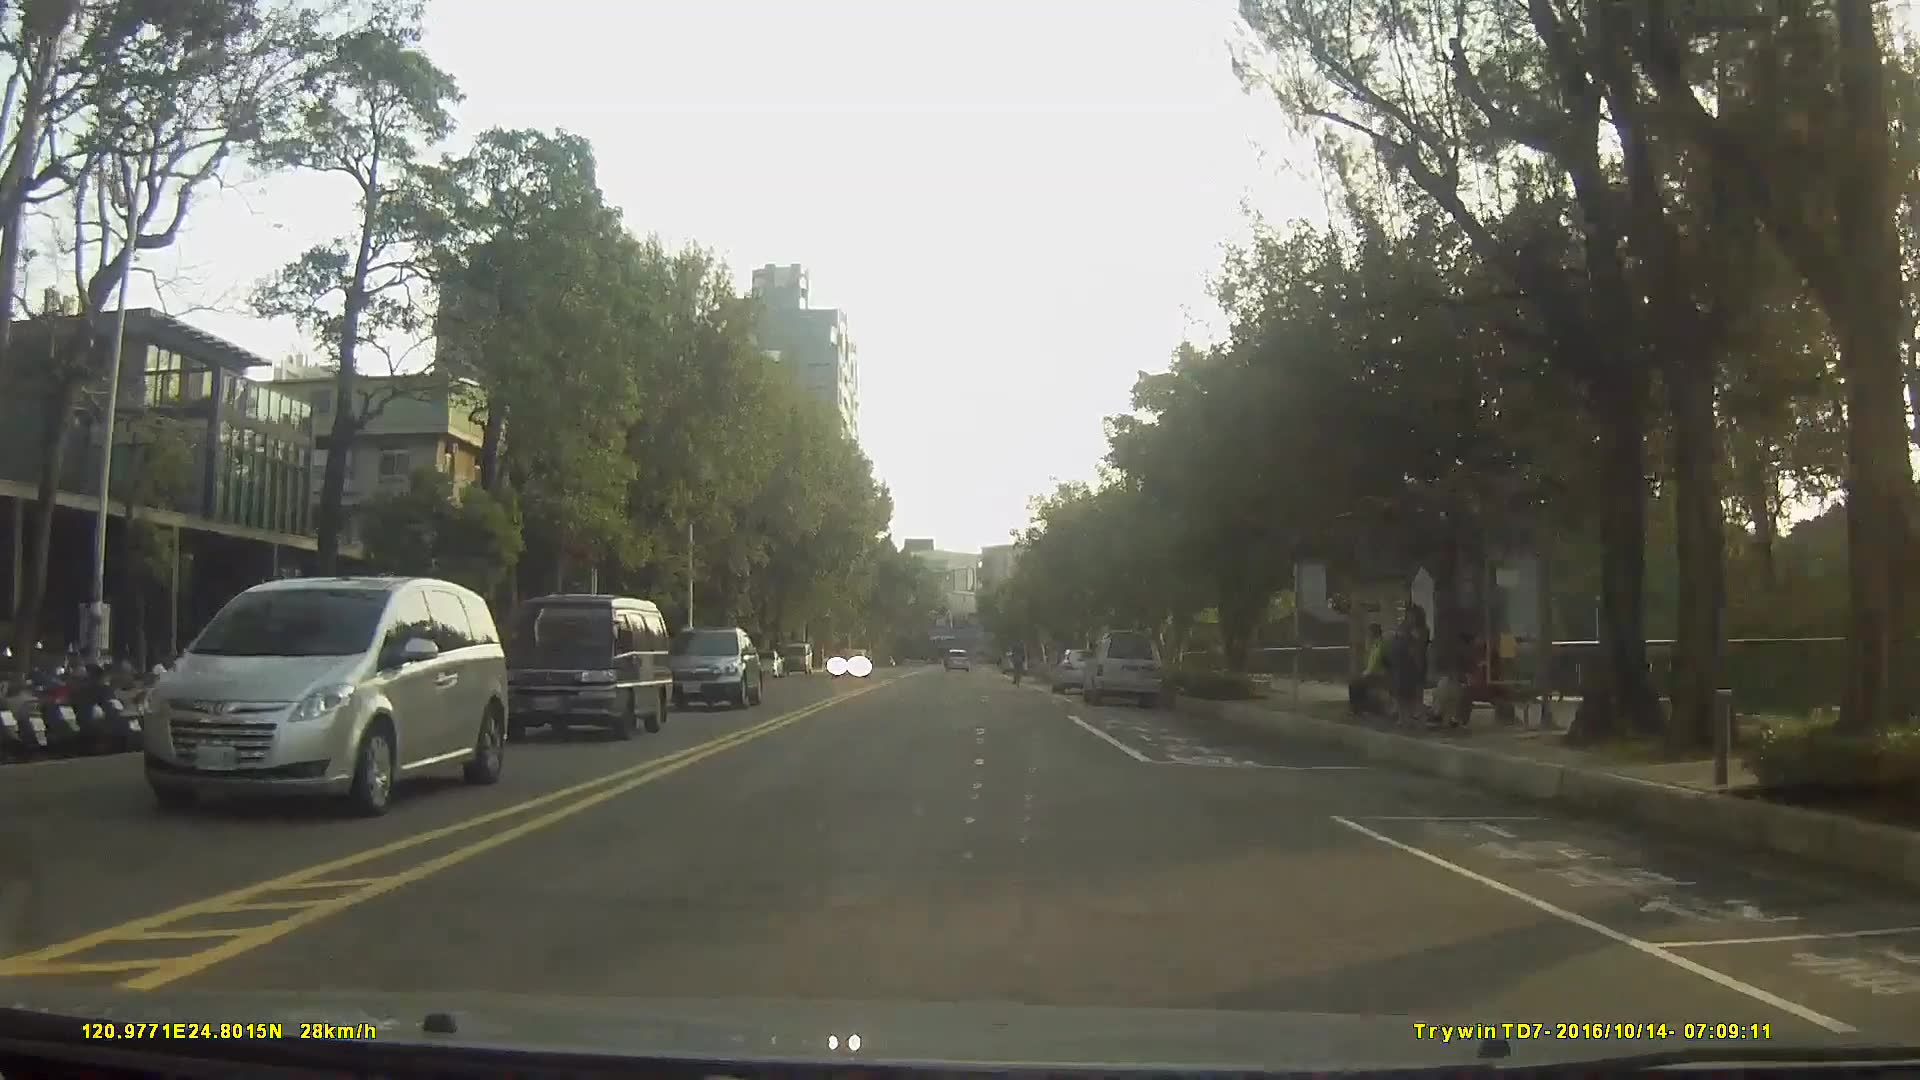pedestrian: (1381, 600, 1437, 726), (1425, 623, 1478, 731), (1348, 621, 1395, 715)
rider: (1010, 632, 1030, 690)
vehicle: (140, 568, 505, 821), (488, 592, 670, 743), (657, 625, 761, 707), (1076, 630, 1164, 707), (1051, 647, 1105, 695), (827, 649, 872, 682), (779, 642, 813, 676), (750, 648, 782, 679), (942, 646, 971, 674)
